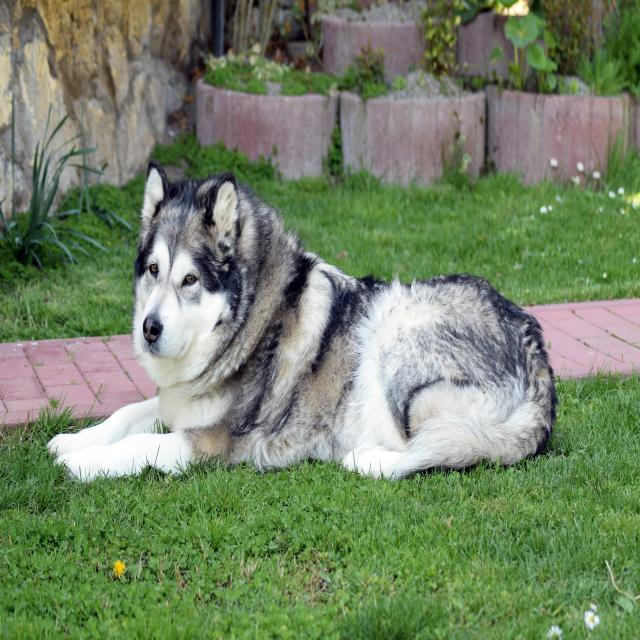ALASKAN_MALAMUTE: (38, 144, 566, 481)
